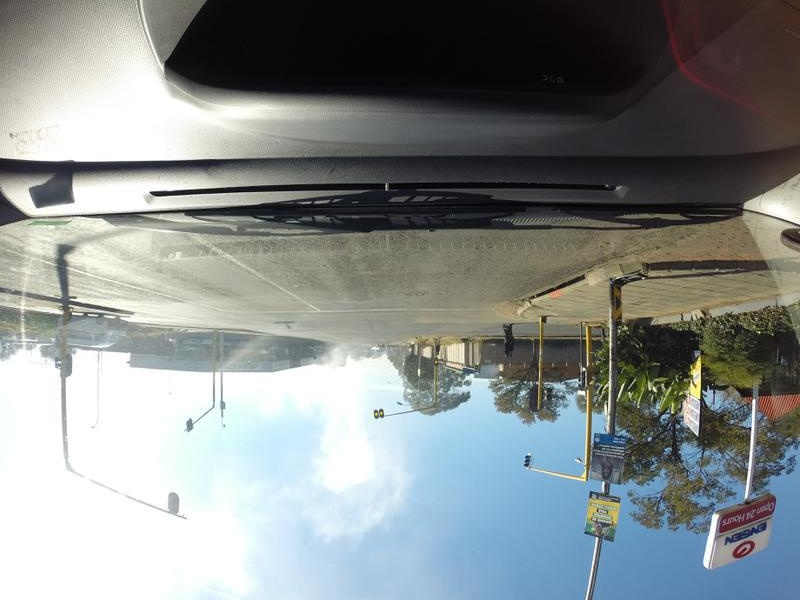pothole: (402, 289, 425, 299)
